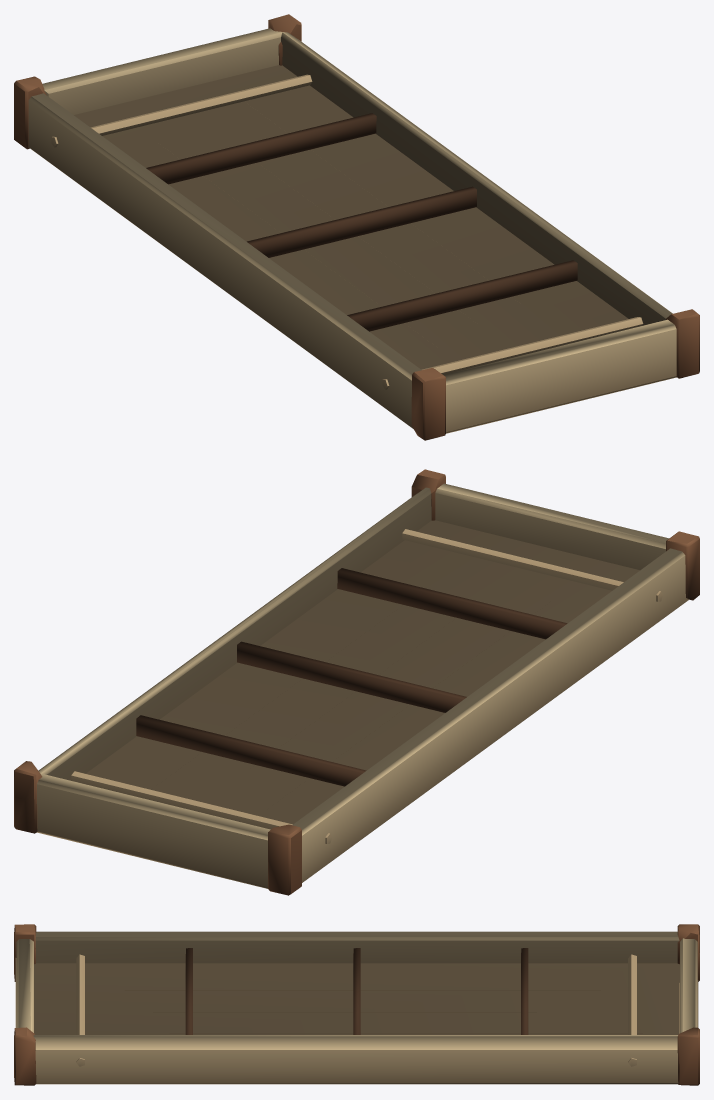
The model's file is ruins-pc-tray-low.glb.
3 renders of one model, top to bottom at view 1: azimuth 30°, elevation 25°; view 2: azimuth 150°, elevation 25°; view 3: azimuth 270°, elevation 25°, orthographic. The views are drawn at different scales.
Parts seen in each view (by area): view 1: 0_ruins_pc_tray; view 2: 0_ruins_pc_tray; view 3: 0_ruins_pc_tray.
Boxes of the visible parts, x1=… form: 0_ruins_pc_tray: x1=14, y1=14, x2=699, y2=440; 0_ruins_pc_tray: x1=14, y1=469, x2=699, y2=895; 0_ruins_pc_tray: x1=14, y1=924, x2=699, y2=1085.
Size of the model in its own units: 0.764 by 0.162 by 1.96.
